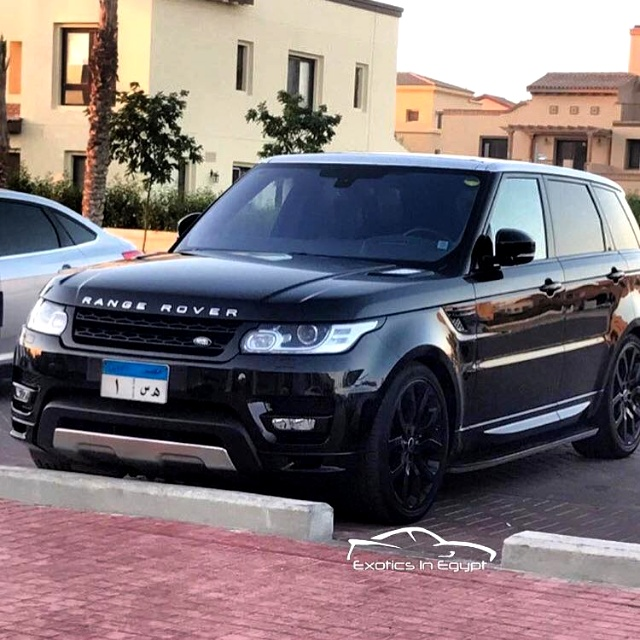License Plate: (97, 357, 171, 406)
